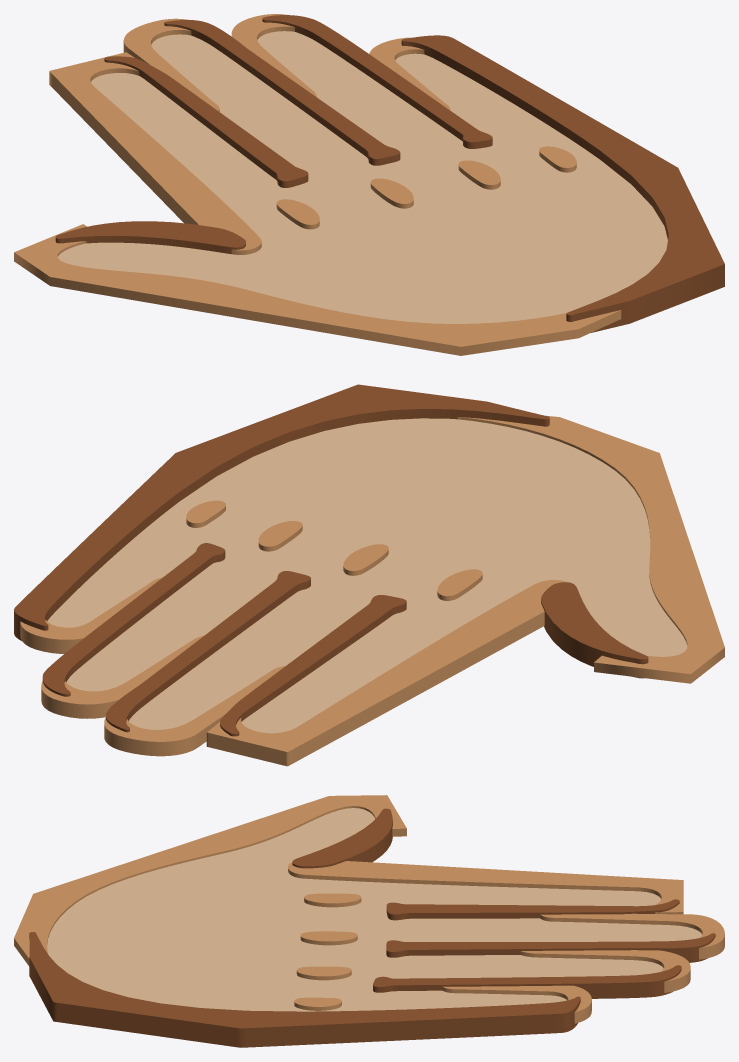
Rendered from emoji_u1f91a_1f3fc.glb.
3 views of the same model, one above another, from view 1: azimuth 30°, elevation 25°; view 2: azimuth 150°, elevation 25°; view 3: azimuth 270°, elevation 25° (orthographic). The views are drawn at different scales.
Parts seen in each view (by area): view 1: emoji_u1f91a_1f3fc; view 2: emoji_u1f91a_1f3fc; view 3: emoji_u1f91a_1f3fc.
Boxes of the visible parts, <box> form: emoji_u1f91a_1f3fc: <box>14,14,724,355</box>; emoji_u1f91a_1f3fc: <box>14,384,724,766</box>; emoji_u1f91a_1f3fc: <box>14,795,724,1047</box>.
Bounding box in the file's own units: 0.0266 × 0.001 × 0.0334.
